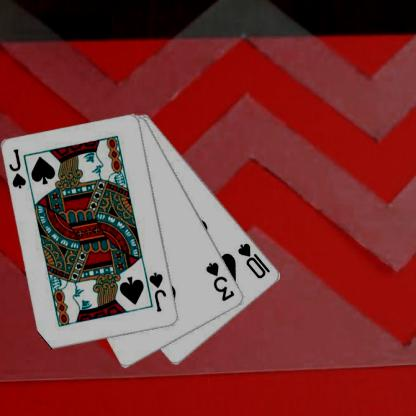10S: (235, 240, 272, 280)
3S: (203, 260, 236, 302)
JS: (147, 269, 168, 313), (7, 147, 27, 190)
